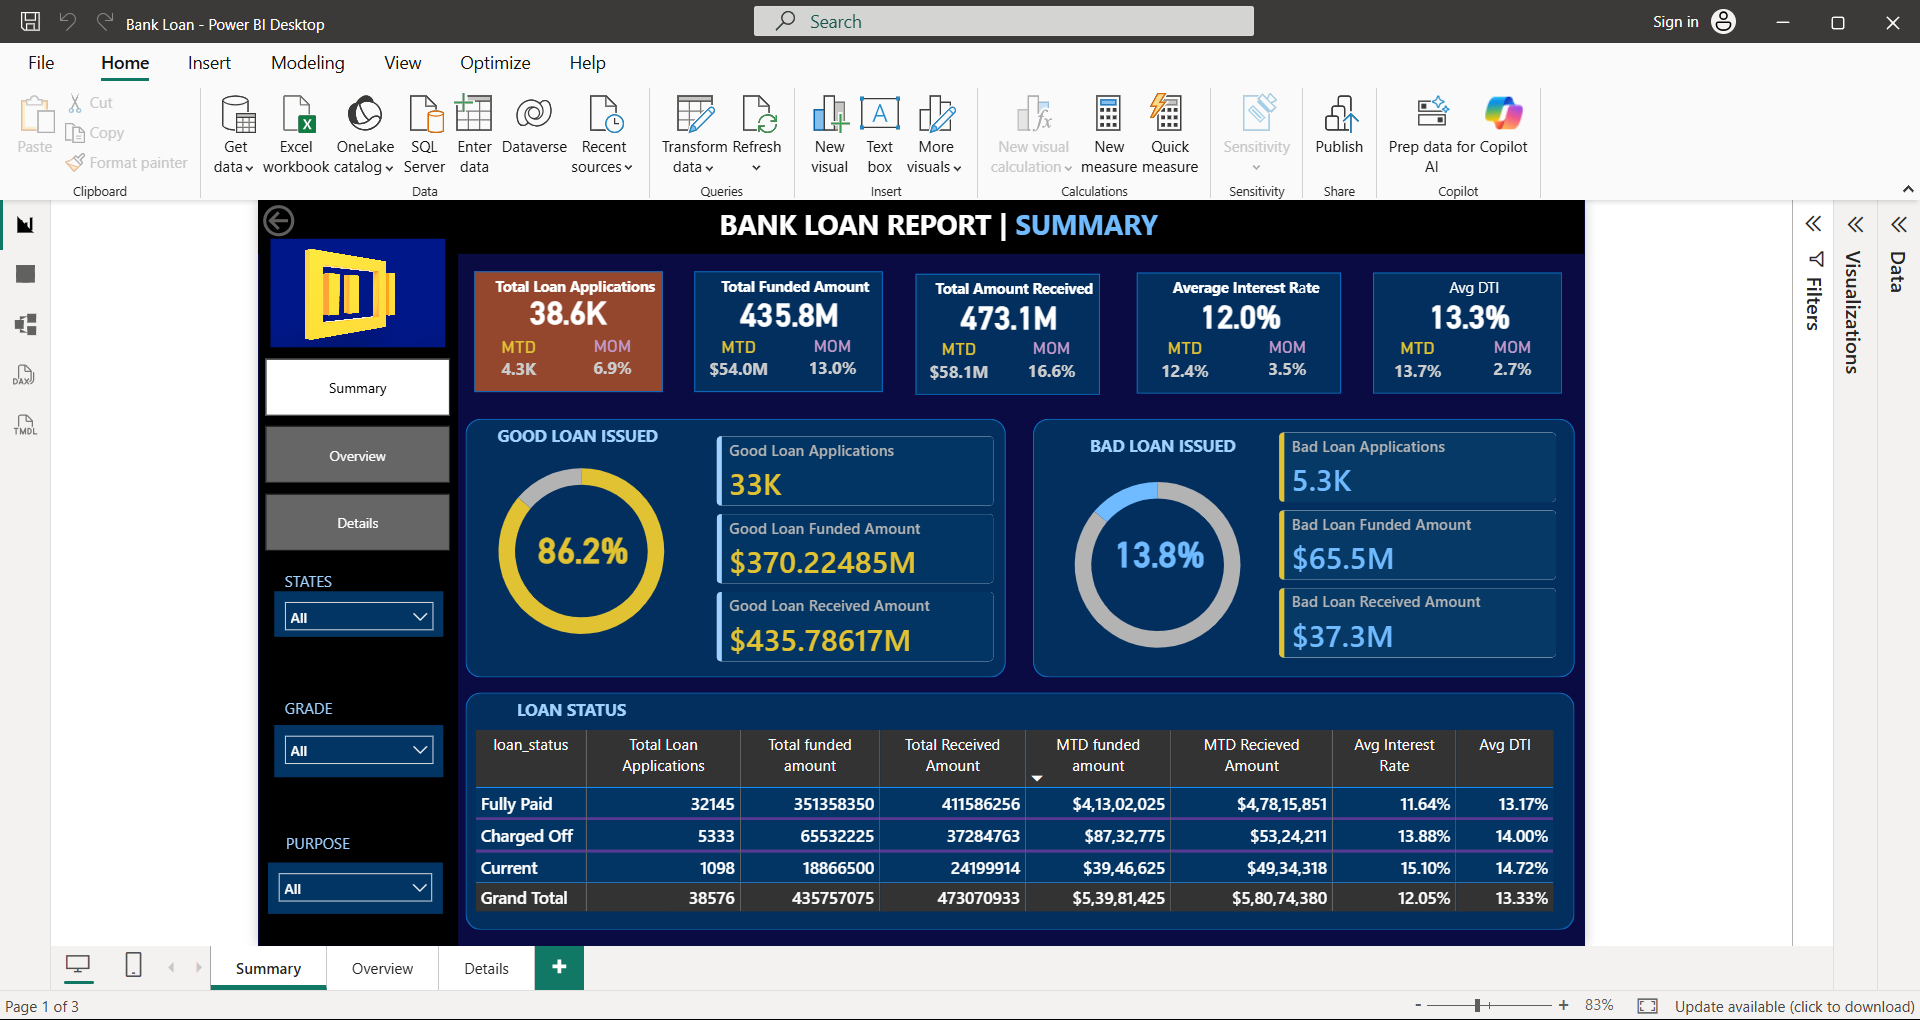

Layout of this report page (visuals, bound fields, positions):
{"tool":"powerbi","page":{"name":"Summary","canvas":[1280,720],"ordinal":0},"visuals":[{"type":"shape","box":[0,0,1280.3,52.1],"z":0},{"type":"shape","box":[208.6,68.6,182,116.6],"z":0,"group":"g1"},{"type":"shape","box":[421.6,68.6,182,116.6],"z":0,"group":"g2"},{"type":"shape","box":[848.1,70,197.2,117],"z":0,"group":"g4"},{"type":"shape","box":[1076.1,70,182.6,117],"z":0,"group":"g5"},{"type":"shape","box":[634.6,71.2,178.1,117],"z":0,"group":"g3"},{"type":"shape","box":[1.4,52.1,192.1,668.3],"z":1000},{"type":"card","fields":{"Values":["bank_loan_data.Total Loan Applications"]},"box":[234.2,75.5,130.8,63.1],"z":1000,"group":"g1"},{"type":"card","fields":{"Values":["bank_loan_data.TOTAL FUNDED AMOUNT"]},"box":[442.7,81.5,142.7,54.9],"z":1000,"group":"g2"},{"type":"card","fields":{"Values":["bank_loan_data.AVG INTEREST RATE"]},"box":[871,82.9,154.6,55.1],"z":1000,"group":"g4"},{"type":"card","fields":{"Values":["bank_loan_data.Total Funded Amount"]},"box":[1097.3,82.9,143.1,55.1],"z":1000,"group":"g5"},{"type":"card","fields":{"Values":["bank_loan_data.TOTAL RECIEVED AMOUNT"]},"box":[655.2,84.1,139.6,55.1],"z":1000,"group":"g3"},{"type":"textbox","box":[208.6,68.6,194.9,38.4],"z":2000,"group":"g1"},{"type":"textbox","box":[421.6,68.6,194.9,38.4],"z":2000,"group":"g2"},{"type":"textbox","box":[848.1,70,211.1,38.5],"z":2000,"group":"g4"},{"type":"textbox","box":[1076.1,70,195.4,38.5],"z":2000,"group":"g5"},{"type":"textbox","box":[634.6,71.2,190.6,38.5],"z":2000,"group":"g3"},{"type":"shape","box":[200.3,211.3,521.4,249.7],"z":2000},{"type":"card","title":"MTD","fields":{"Values":["bank_loan_data.MTD LOAN APPLICATIONS"]},"box":[208.6,131.7,85.9,45.3],"z":3000,"group":"g1"},{"type":"card","title":"MTD","fields":{"Values":["bank_loan_data.MTD FUNDED AMOUNT"]},"box":[421.6,131.7,85.9,45.3],"z":3000,"group":"g2"},{"type":"card","title":"MTD","fields":{"Values":["bank_loan_data.MTD AVG INT RATE"]},"box":[848.1,133.3,93.1,45.4],"z":3000,"group":"g4"},{"type":"card","title":"MTD","fields":{"Values":["bank_loan_data.MTD AVG DTI"]},"box":[1076.1,133.3,86.1,45.4],"z":3000,"group":"g5"},{"type":"card","title":"MTD","fields":{"Values":["bank_loan_data.MTD TOTAL Recieved  AMOUNT"]},"box":[634.6,134.5,84,45.4],"z":3000,"group":"g3"},{"type":"donutChart","fields":{"Category":["bank_loan_data.GOOD VS BAD LOAN"],"Y":["bank_loan_data.Total Loan Applications"]},"box":[204.5,234.6,216.8,209.9],"z":3000},{"type":"card","title":"MOM","fields":{"Values":["bank_loan_data.MOM LOAN APPLICATIONS"]},"box":[299.6,130.3,85.9,45.3],"z":4000,"group":"g1"},{"type":"card","title":"MOM","fields":{"Values":["bank_loan_data.MOM FUNDED AMOUNT"]},"box":[512.6,130.3,85.9,45.3],"z":4000,"group":"g2"},{"type":"card","title":"MOM","fields":{"Values":["bank_loan_data.MOM AVG INT T"]},"box":[946.7,132,93.1,45.4],"z":4000,"group":"g4"},{"type":"card","title":"MOM","fields":{"Values":["bank_loan_data.MOM AVG DTI"]},"box":[1167.4,132,86.1,45.4],"z":4000,"group":"g5"},{"type":"card","title":"MOM","fields":{"Values":["bank_loan_data.MOM received AMOUNT"]},"box":[723.6,133.2,84,45.4],"z":4000,"group":"g3"},{"type":"card","fields":{"Values":["bank_loan_data.Good Loan %"]},"box":[242.9,308.7,142.7,54.9],"z":4000},{"type":"textbox","box":[31.6,211.3,554.4,65.9],"z":5000},{"type":"textbox","box":[440.5,0,481.6,52.1],"z":6000},{"type":"group","id":"g1","title":"Group 1","box":[208.6,68.6,194.9,116.6],"z":7000},{"type":"group","id":"g2","title":"Group 1","box":[421.6,68.6,194.9,116.6],"z":8000},{"type":"group","id":"g3","title":"Group 1","box":[634.6,71.2,190.6,117],"z":9000},{"type":"group","id":"g4","title":"Group 1","box":[848.1,70,211.1,117],"z":10000},{"type":"group","id":"g5","title":"Group 1","box":[1076.1,70,194.2,117],"z":11000},{"type":"shape","box":[747.9,211.3,522.8,249.7],"z":12000},{"type":"actionButton","box":[0,0,100,40],"z":13000},{"type":"cardVisual","fields":{"Data":["bank_loan_data.GOOD LOAN Applications","bank_loan_data.GOOD LOAN FUNDED AMOUNT","bank_loan_data.GOOD LOAN Recieved AMOUNT"]},"box":[425.4,211.3,301.9,253.9],"z":14000},{"type":"donutChart","fields":{"Category":["bank_loan_data.GOOD VS BAD LOAN"],"Y":["bank_loan_data.Total Loan Applications"]},"box":[760.2,247,216.8,209.9],"z":15000},{"type":"card","fields":{"Values":["bank_loan_data.Bad Loan %"]},"box":[798.6,312.9,142.7,54.9],"z":16000},{"type":"shape","box":[200.3,474.8,1070.3,229.2],"z":17000},{"type":"cardVisual","fields":{"Data":["bank_loan_data.Bad Loan Applications","bank_loan_data.Bad Loan Funded Amount","bank_loan_data.Bad Loan Received Amount"]},"box":[968.8,207.2,301.9,253.9],"z":18000},{"type":"tableEx","fields":{"Values":["bank_loan_data.loan_status","bank_loan_data.Total Loan Applications","bank_loan_data.TOTAL FUNDED AMOUNT","bank_loan_data.TOTAL RECIEVED AMOUNT","bank_loan_data.MTD TOTAL funded amount AMOUNT","bank_loan_data.MTD TOTAL Recieved  AMOUNT","bank_loan_data.AVG INTEREST RATE","bank_loan_data.AVG DTI"]},"box":[204.5,506.3,1066.2,197.6],"z":19000},{"type":"textbox","box":[465.2,220.9,815.1,71.4],"z":20000},{"type":"textbox","box":[9.6,474.8,585.9,31.6],"z":21000},{"type":"slicer","fields":{"Values":["bank_loan_data.address_state"]},"box":[15.1,377.4,163.3,43.9],"z":22000},{"type":"textbox","box":[0,352.7,97.4,46.7],"z":23000},{"type":"textbox","box":[1.2,475.3,95.3,31.4],"z":24000},{"type":"slicer","fields":{"Values":["bank_loan_data.grade"]},"box":[15.1,506.3,163.3,50.8],"z":25000},{"type":"slicer","fields":{"Values":["bank_loan_data.purpose"]},"box":[9.6,639.5,168.8,49.4],"z":26000},{"type":"textbox","box":[15.7,605.6,84.5,49.5],"z":27000},{"type":"pageNavigator","box":[6.9,153.7,178.4,186.6],"z":28000},{"type":"image","box":[12.1,37.4,168.9,105],"z":29000}]}

Visuals, with their boxes on the page's 1280x720 design canvas (x1, y1, x2, y2). These are canvas units, not pixel positions in the 1920x1020 screenshot, which may show the page scaled, cropped or inside an application window:
shape: (left=0, top=0, right=1280, bottom=52)
shape: (left=209, top=69, right=391, bottom=185)
shape: (left=422, top=69, right=604, bottom=185)
shape: (left=848, top=70, right=1045, bottom=187)
shape: (left=1076, top=70, right=1259, bottom=187)
shape: (left=635, top=71, right=813, bottom=188)
shape: (left=1, top=52, right=194, bottom=720)
card - bank_loan_data.Total Loan Applications: (left=234, top=76, right=365, bottom=139)
card - bank_loan_data.TOTAL FUNDED AMOUNT: (left=443, top=82, right=585, bottom=136)
card - bank_loan_data.AVG INTEREST RATE: (left=871, top=83, right=1026, bottom=138)
card - bank_loan_data.Total Funded Amount: (left=1097, top=83, right=1240, bottom=138)
card - bank_loan_data.TOTAL RECIEVED AMOUNT: (left=655, top=84, right=795, bottom=139)
textbox: (left=209, top=69, right=404, bottom=107)
textbox: (left=422, top=69, right=616, bottom=107)
textbox: (left=848, top=70, right=1059, bottom=108)
textbox: (left=1076, top=70, right=1272, bottom=108)
textbox: (left=635, top=71, right=825, bottom=110)
shape: (left=200, top=211, right=722, bottom=461)
"MTD" card: (left=209, top=132, right=294, bottom=177)
"MTD" card: (left=422, top=132, right=508, bottom=177)
"MTD" card: (left=848, top=133, right=941, bottom=179)
"MTD" card: (left=1076, top=133, right=1162, bottom=179)
"MTD" card: (left=635, top=134, right=719, bottom=180)
donutChart - bank_loan_data.GOOD VS BAD LOAN x bank_loan_data.Total Loan Applications: (left=204, top=235, right=421, bottom=444)
"MOM" card: (left=300, top=130, right=386, bottom=176)
"MOM" card: (left=513, top=130, right=598, bottom=176)
"MOM" card: (left=947, top=132, right=1040, bottom=177)
"MOM" card: (left=1167, top=132, right=1254, bottom=177)
"MOM" card: (left=724, top=133, right=808, bottom=179)
card - bank_loan_data.Good Loan %: (left=243, top=309, right=386, bottom=364)
textbox: (left=32, top=211, right=586, bottom=277)
textbox: (left=440, top=0, right=922, bottom=52)
"Group 1" group: (left=209, top=69, right=404, bottom=185)
"Group 1" group: (left=422, top=69, right=616, bottom=185)
"Group 1" group: (left=635, top=71, right=825, bottom=188)
"Group 1" group: (left=848, top=70, right=1059, bottom=187)
"Group 1" group: (left=1076, top=70, right=1270, bottom=187)
shape: (left=748, top=211, right=1271, bottom=461)
actionButton: (left=0, top=0, right=100, bottom=40)
cardVisual - bank_loan_data.GOOD LOAN Applications x bank_loan_data.GOOD LOAN FUNDED AMOUNT: (left=425, top=211, right=727, bottom=465)
donutChart - bank_loan_data.GOOD VS BAD LOAN x bank_loan_data.Total Loan Applications: (left=760, top=247, right=977, bottom=457)
card - bank_loan_data.Bad Loan %: (left=799, top=313, right=941, bottom=368)
shape: (left=200, top=475, right=1271, bottom=704)
cardVisual - bank_loan_data.Bad Loan Applications x bank_loan_data.Bad Loan Funded Amount: (left=969, top=207, right=1271, bottom=461)
tableEx - bank_loan_data.loan_status x bank_loan_data.Total Loan Applications: (left=204, top=506, right=1271, bottom=704)
textbox: (left=465, top=221, right=1280, bottom=292)
textbox: (left=10, top=475, right=596, bottom=506)
slicer - bank_loan_data.address_state: (left=15, top=377, right=178, bottom=421)
textbox: (left=0, top=353, right=97, bottom=399)
textbox: (left=1, top=475, right=96, bottom=507)
slicer - bank_loan_data.grade: (left=15, top=506, right=178, bottom=557)
slicer - bank_loan_data.purpose: (left=10, top=640, right=178, bottom=689)
textbox: (left=16, top=606, right=100, bottom=655)
pageNavigator: (left=7, top=154, right=185, bottom=340)
image: (left=12, top=37, right=181, bottom=142)
